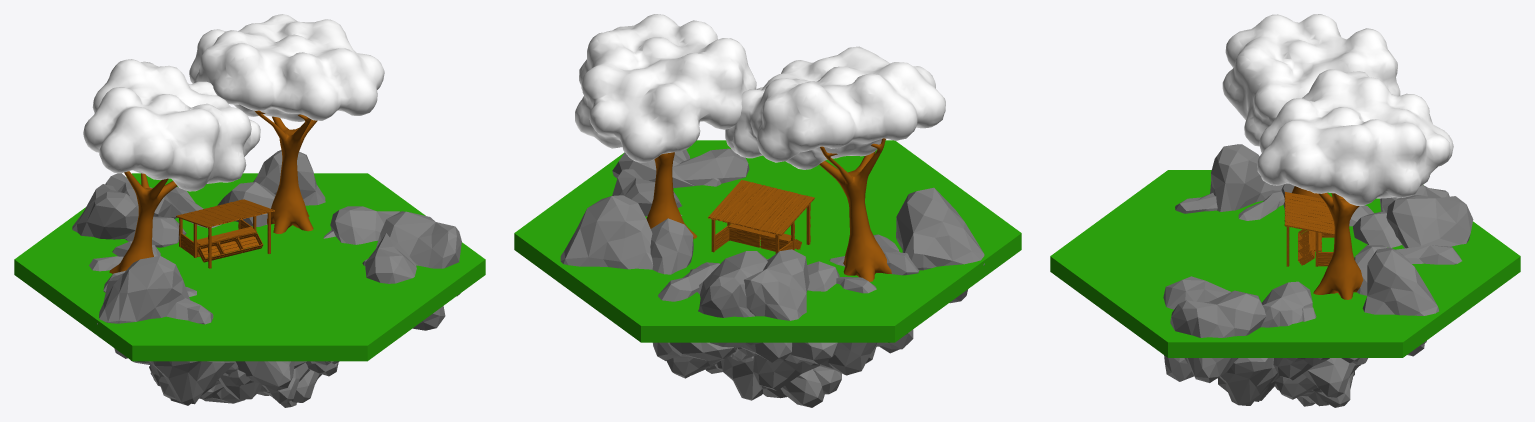
The picture shows the model from 3 angles, left to right: view 1: azimuth 30°, elevation 25°; view 2: azimuth 150°, elevation 25°; view 3: azimuth 270°, elevation 25°; orthographic projection. The views are drawn at different scales.
Visible parts, largest first — view 1: Цилиндр, rock.032, МСфера.014, МСфера.001, Куб.022; view 2: Цилиндр, rock.032, МСфера.001, МСфера.014, Куб.022; view 3: Цилиндр, rock.032, МСфера.014, МСфера.001, Куб.022.
Part boxes in pixels (bbox=[...]): Цилиндр: bbox=[14, 173, 485, 361]; rock.032: bbox=[72, 150, 461, 407]; МСфера.014: bbox=[189, 14, 384, 233]; МСфера.001: bbox=[83, 59, 260, 273]; Куб.022: bbox=[176, 199, 274, 268]; Цилиндр: bbox=[514, 140, 1021, 342]; rock.032: bbox=[560, 148, 984, 407]; МСфера.001: bbox=[725, 46, 945, 281]; МСфера.014: bbox=[575, 14, 756, 238]; Куб.022: bbox=[708, 180, 814, 253]; Цилиндр: bbox=[1050, 170, 1520, 357]; rock.032: bbox=[1163, 144, 1473, 407]; МСфера.014: bbox=[1257, 69, 1453, 299]; МСфера.001: bbox=[1222, 14, 1400, 198]; Куб.022: bbox=[1284, 192, 1334, 266].
Bounding box in the file's own units: 3182 × 2819 × 3670.
